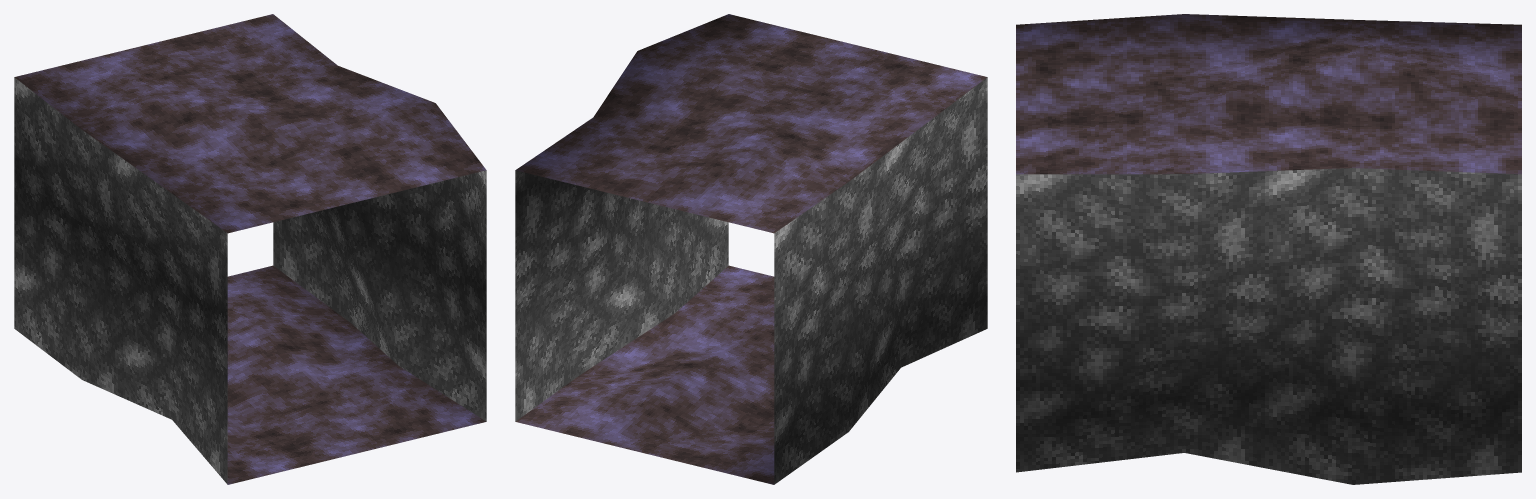
Rendered from Hall Piece.fbx.
The picture shows the model from 3 angles, left to right: view 1: azimuth 30°, elevation 25°; view 2: azimuth 150°, elevation 25°; view 3: azimuth 270°, elevation 25°; orthographic projection. The views are drawn at different scales.
Parts seen in each view (by area): view 1: Hall Piece; view 2: Hall Piece; view 3: Hall Piece.
Boxes of the visible parts, x1=… form: Hall Piece: x1=14, y1=14, x2=486, y2=484; Hall Piece: x1=515, y1=14, x2=987, y2=484; Hall Piece: x1=1016, y1=14, x2=1521, y2=484.
Bounding box in the file's own units: 155 × 142 × 200.
